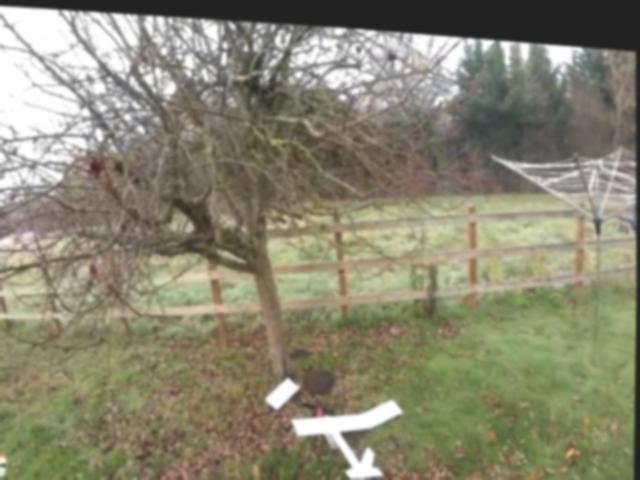uav: (283, 370, 413, 480)
